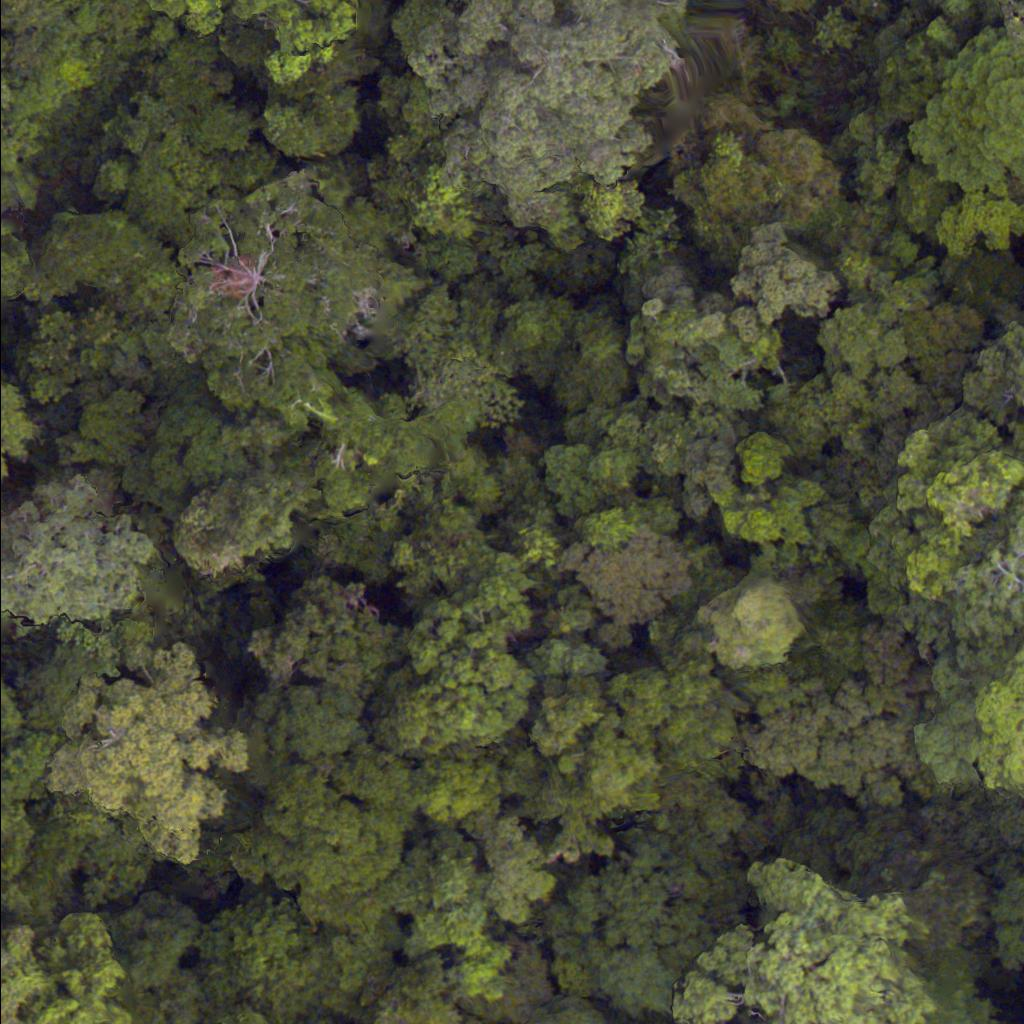crown: (58, 641, 253, 878), (169, 197, 338, 404), (688, 899, 914, 1023), (390, 583, 538, 763), (0, 470, 158, 635), (192, 870, 360, 1023), (0, 911, 158, 1023), (722, 220, 844, 327), (701, 575, 809, 673), (150, 0, 344, 38)
